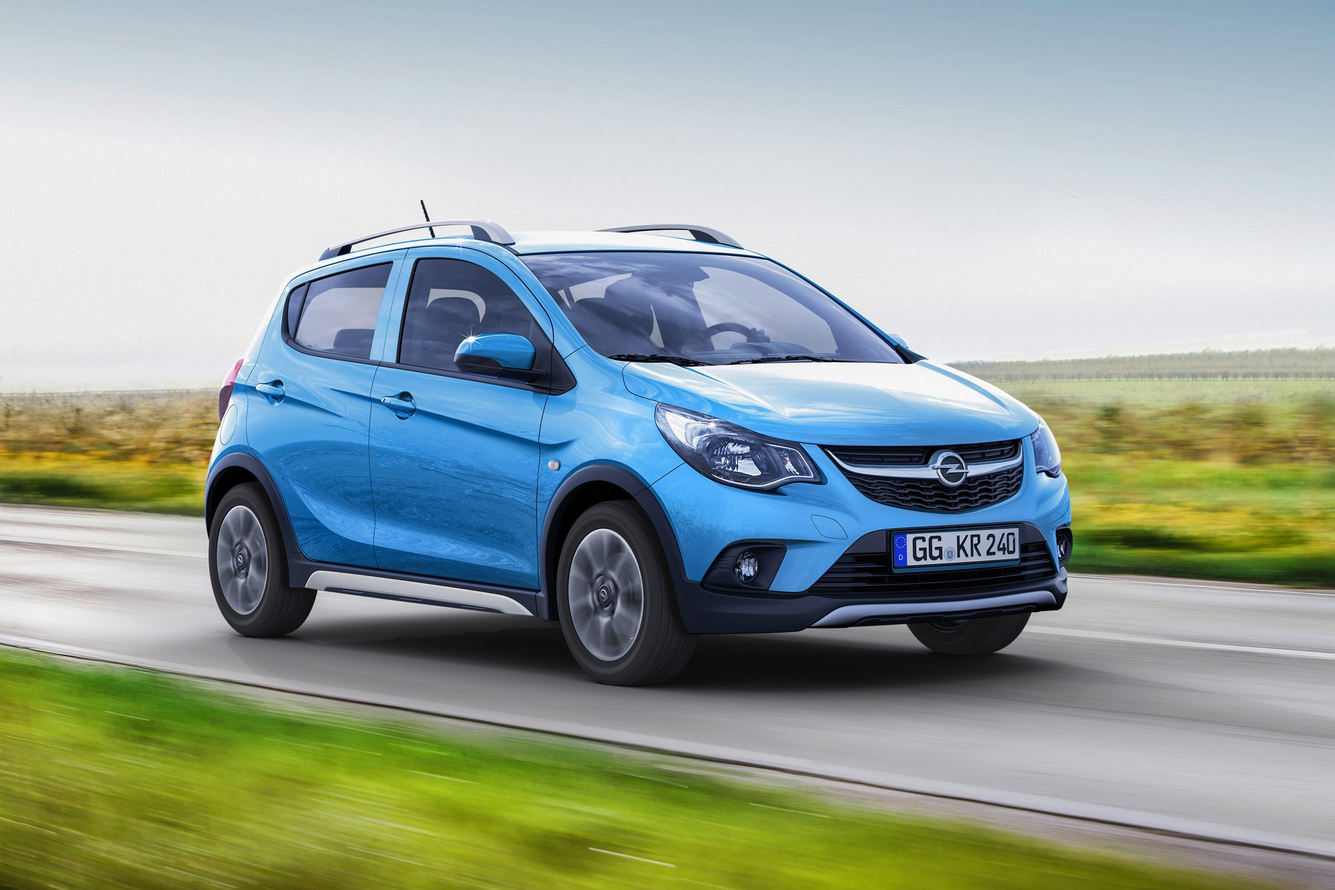opel: (925, 439, 970, 491)
